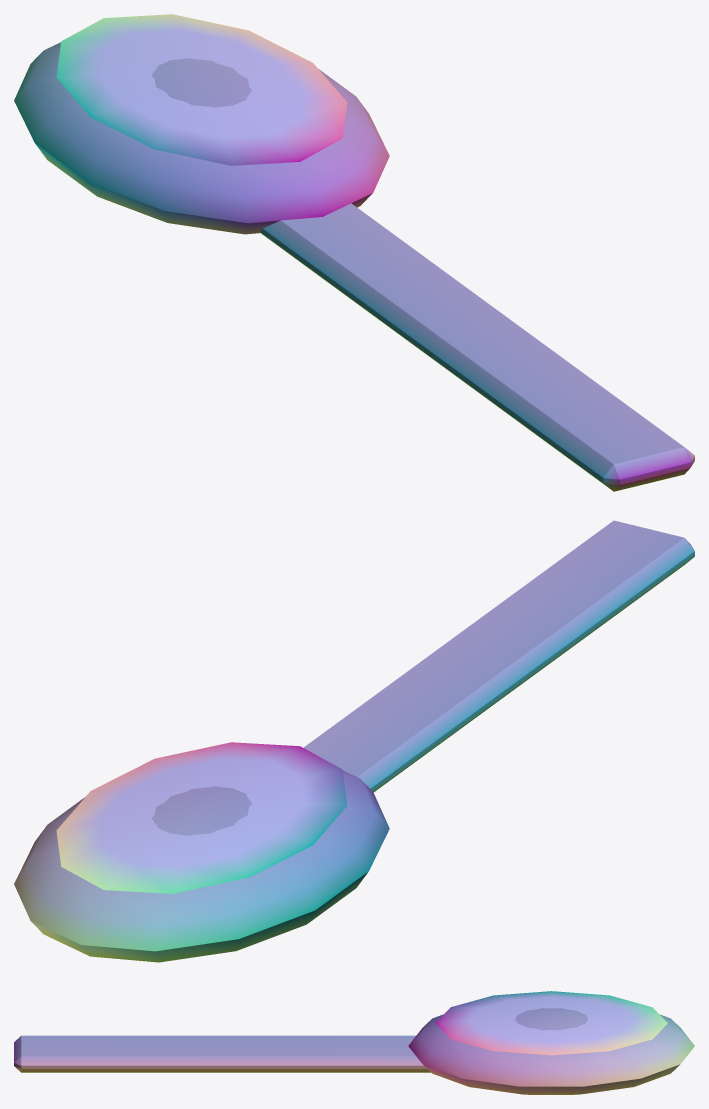
The model's file is env_deco_spoon.glb.
3 renders of one model, top to bottom at view 1: azimuth 30°, elevation 25°; view 2: azimuth 150°, elevation 25°; view 3: azimuth 270°, elevation 25°, orthographic. The views are drawn at different scales.
Parts seen in each view (by area): view 1: env_deco_spoon_mesh; view 2: env_deco_spoon_mesh; view 3: env_deco_spoon_mesh.
Part boxes in pixels (box(x1,y1,x2,y2)): env_deco_spoon_mesh: box(14, 14, 694, 491); env_deco_spoon_mesh: box(14, 520, 694, 962); env_deco_spoon_mesh: box(14, 991, 694, 1094).
Size of the model in its own units: 0.2145 by 0.07 by 0.76.
